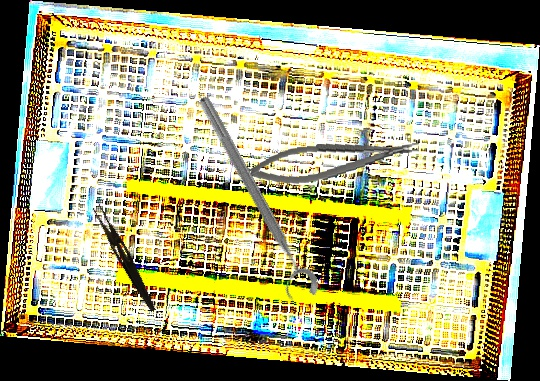Dressing Forceps: (88, 203, 162, 314)
Fixation Ring: (181, 91, 325, 309)
Needle Holder: (241, 133, 422, 190)
